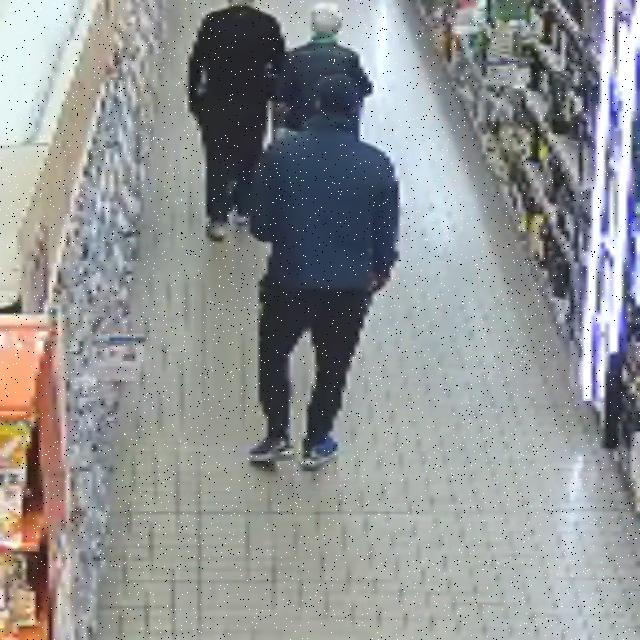hands: (370, 275, 389, 294)
person: (250, 75, 399, 468), (189, 0, 285, 240), (278, 3, 372, 131)
